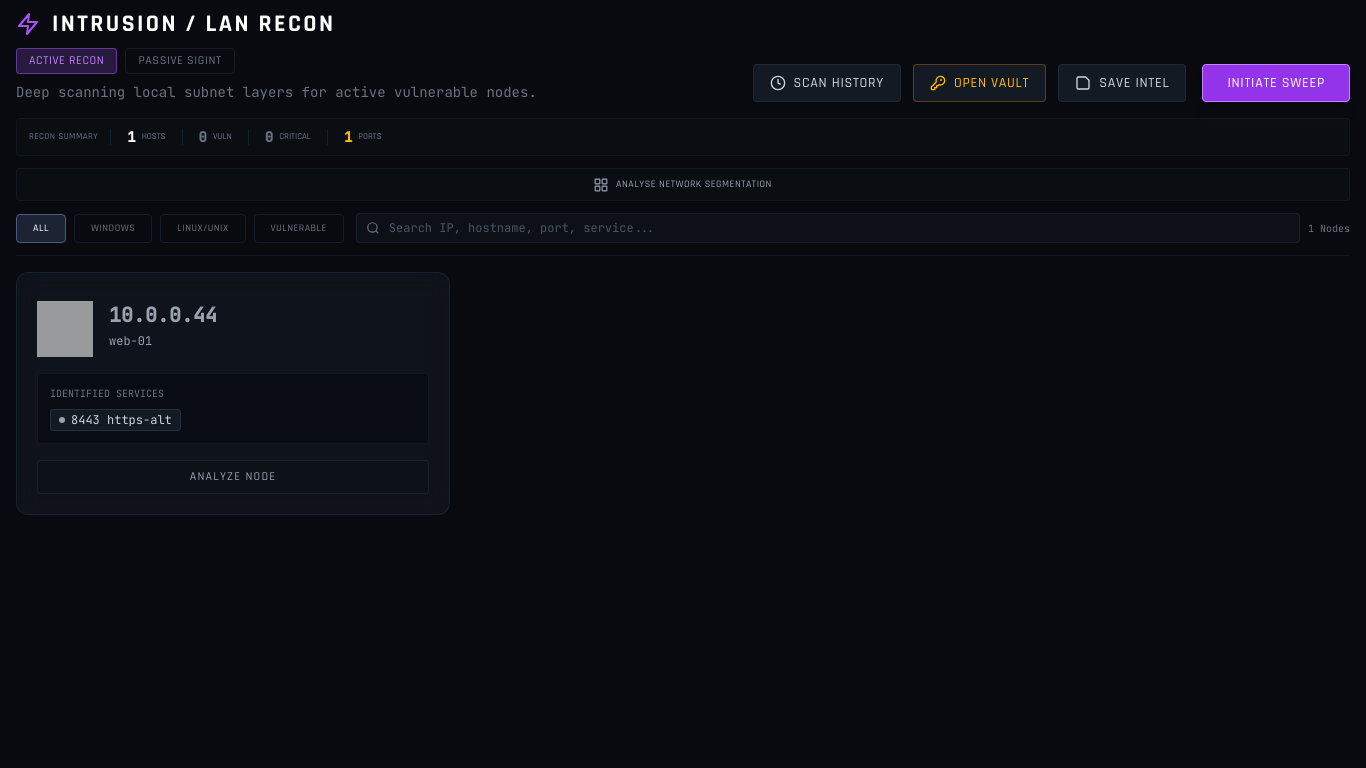
it: what the panel does with an answer it did not get › renders the inconclusive checks, and says their absence is not a pass
Click the button "Analyze Node" at {"x": 233, "y": 477}, box [37,460,429,494]
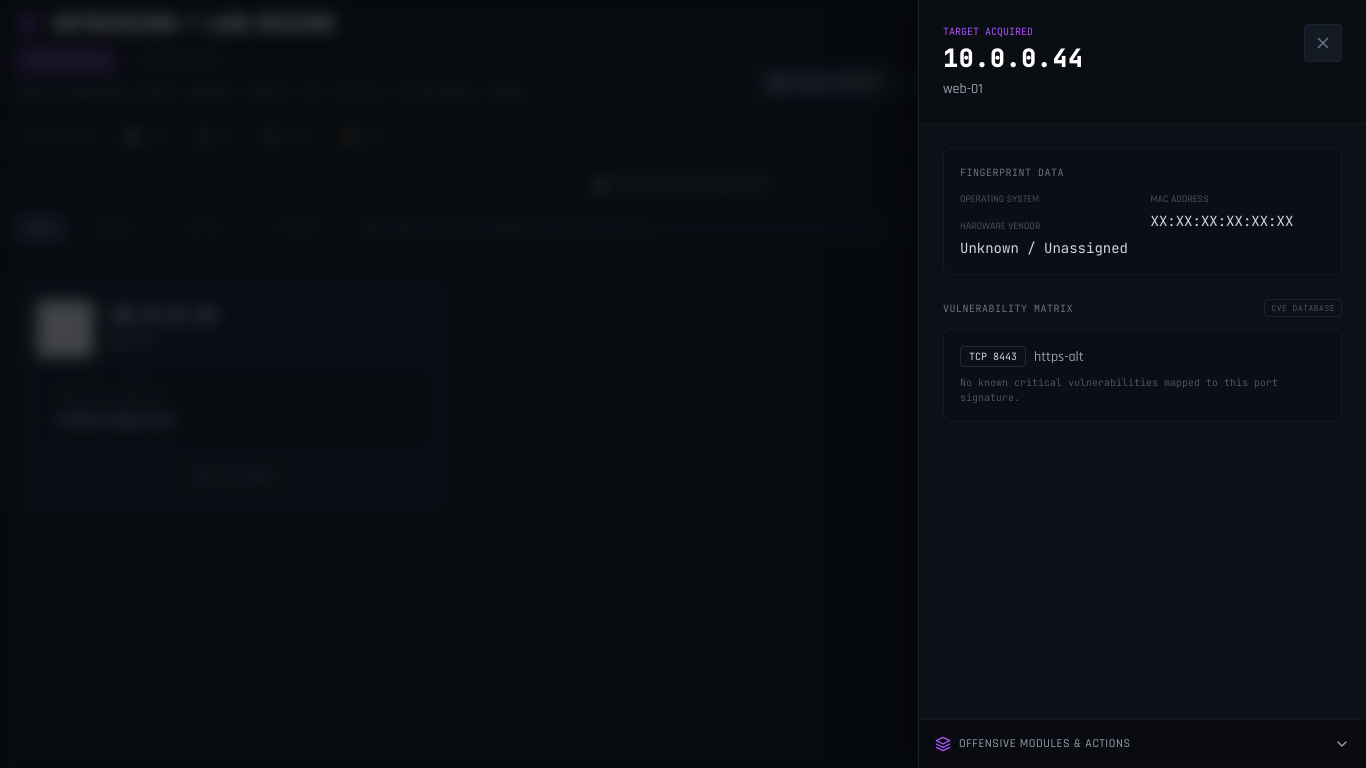
Click the button "OFFENSIVE MODULES & ACTIONS" at {"x": 1045, "y": 744}, box [919,720,1365,767]
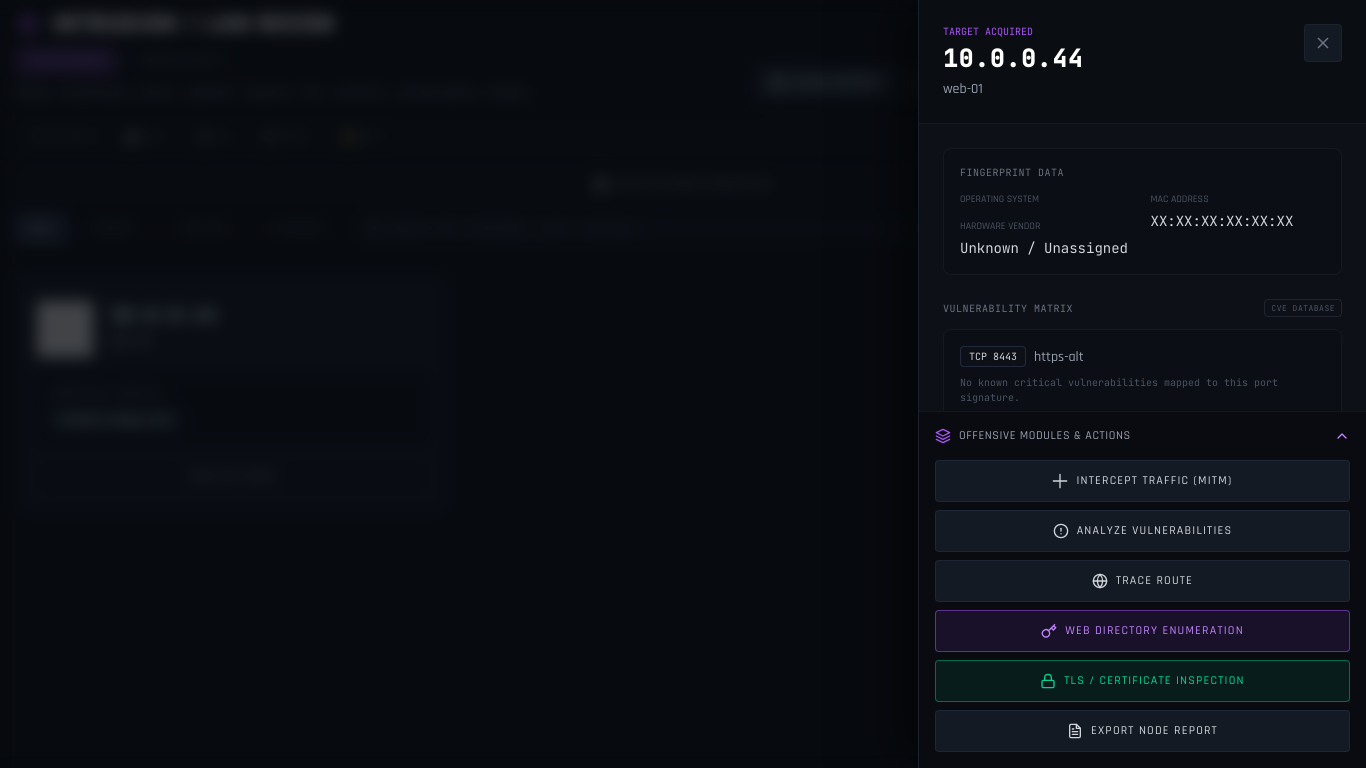
Click the button "TLS / CERTIFICATE INSPECTION" at {"x": 1142, "y": 681}, box [935,660,1350,702]
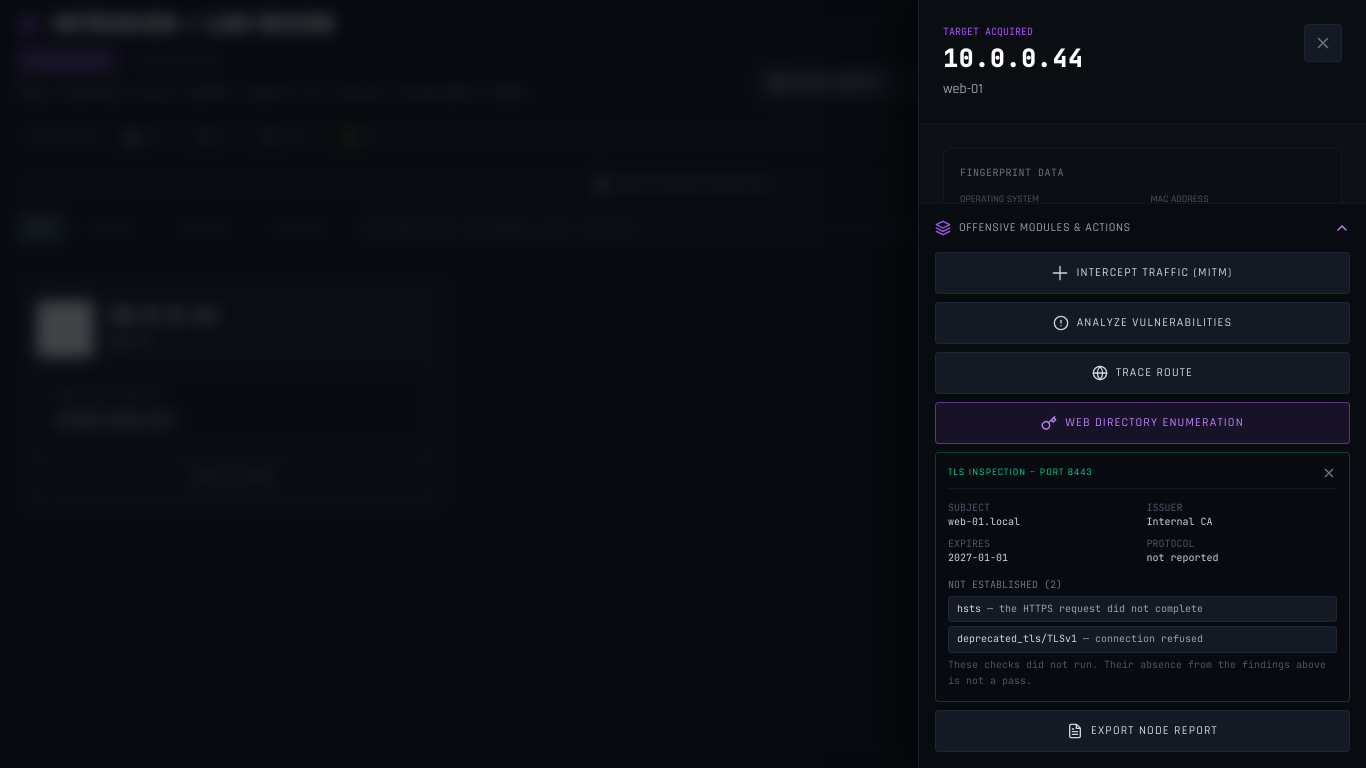
Check: the text "NOT ESTABLISHED (2)" is shown, box [948,578,1062,591]
Check: the text "hsts — the HTTPS request did not complete" is shown, box [948,596,1337,622]
Check: the text "absence from the findings above is not a pass" is shown, box [948,658,1326,687]
